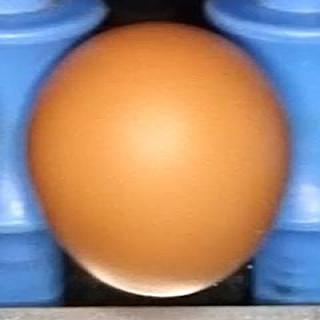Telur: (11, 19, 303, 304)
